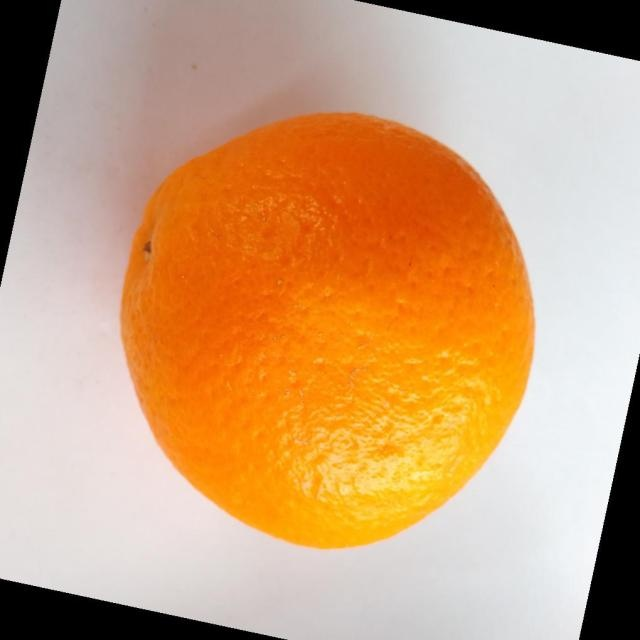agrume: (118, 110, 536, 550)
